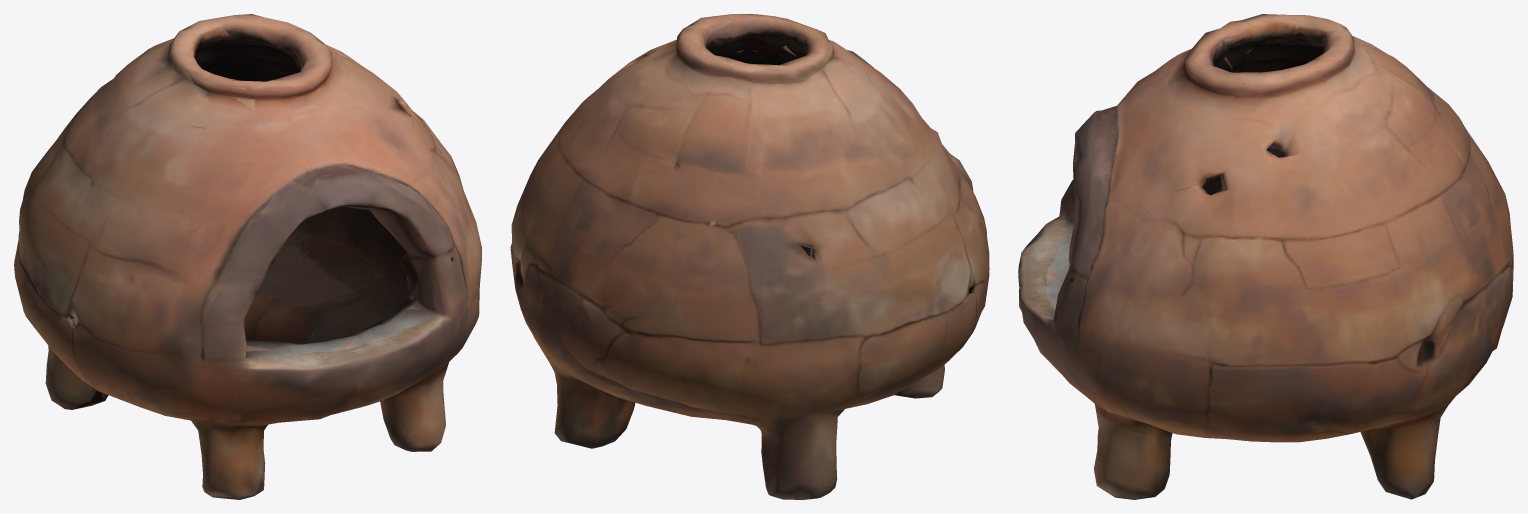
Rendered from a177_kubbeli_toprak_firin.glb.
3 views of the same model, side by side, from view 1: azimuth 30°, elevation 25°; view 2: azimuth 150°, elevation 25°; view 3: azimuth 270°, elevation 25° (orthographic). The views are drawn at different scales.
Bounding box in the file's own units: 1.98 × 1.77 × 2.
Materials: 1 (1 with a texture image).
